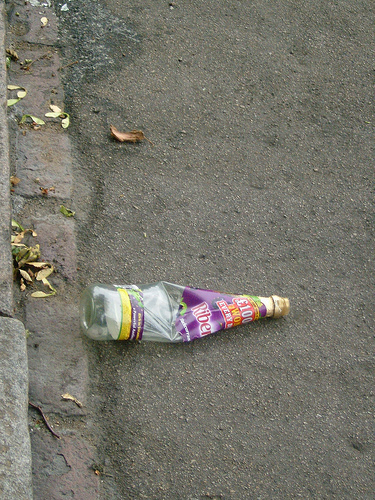litter: (80, 277, 290, 343)
